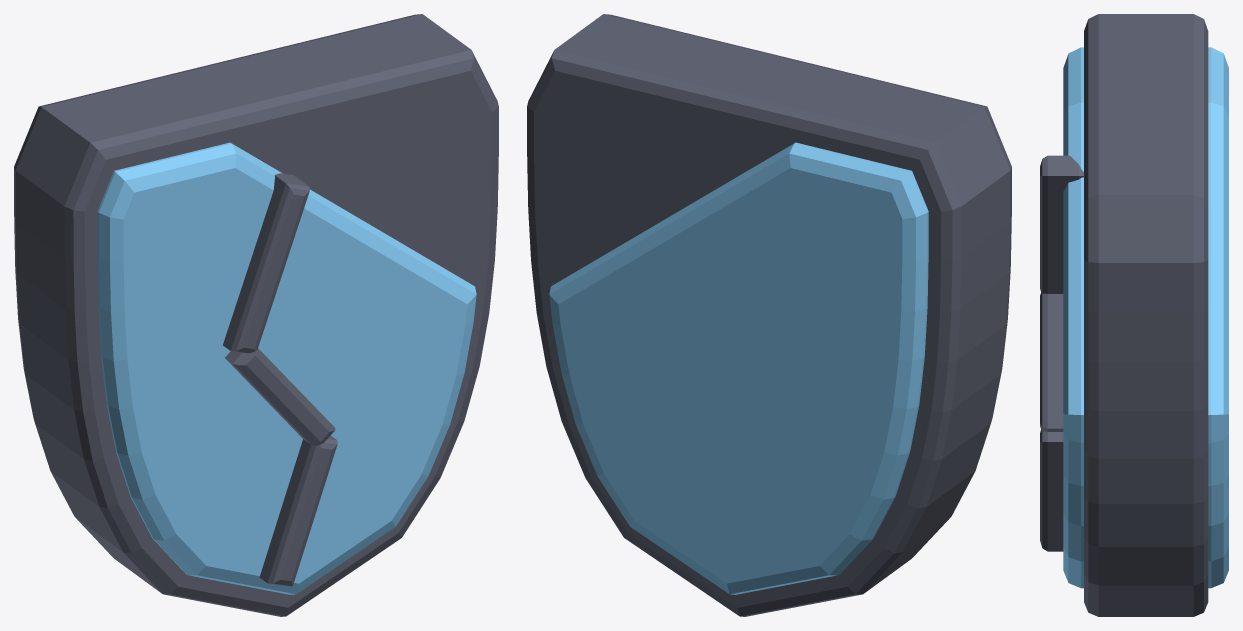
The model's file is game-ui-icon-library-shield-cracked-c3c63157__18984.glb.
3 renders of one model, left to right at view 1: azimuth 30°, elevation 25°; view 2: azimuth 150°, elevation 25°; view 3: azimuth 270°, elevation 25°, orthographic. The views are drawn at different scales.
Visible parts, largest first — view 1: shield-cracked; view 2: shield-cracked; view 3: shield-cracked.
Boxes of the visible parts, box(x1,y1,x2,y2) form: shield-cracked: box(14, 14, 498, 616); shield-cracked: box(527, 14, 1011, 616); shield-cracked: box(1040, 14, 1228, 616).
Bounding box in the file's own units: 0.8181 × 0.94 × 0.3177.
